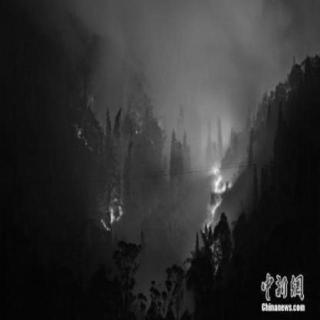Fire: (82, 74, 240, 266)
